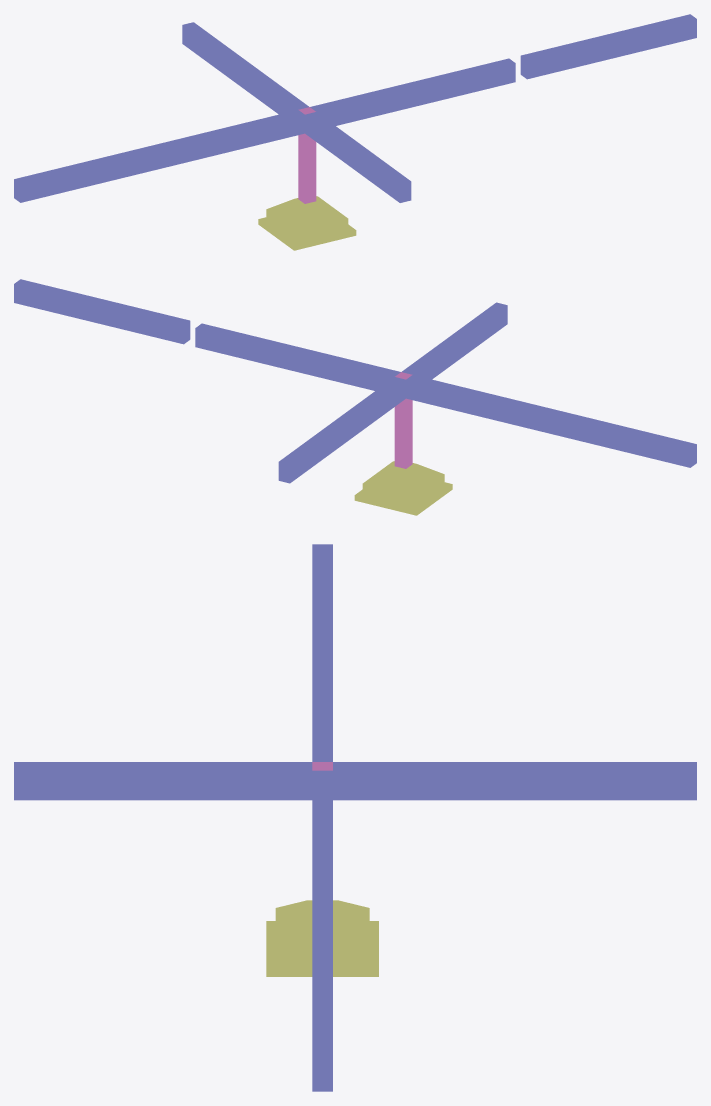
The model's file is model_5f52b81a-814a-4a81-9aff-ebe577a4a901.glb.
3 views of the same model, one above another, from view 1: azimuth 30°, elevation 25°; view 2: azimuth 150°, elevation 25°; view 3: azimuth 270°, elevation 25° (orthographic). The views are drawn at different scales.
Size of the model in its own units: 13.06 by 2.2 by 7.28.
